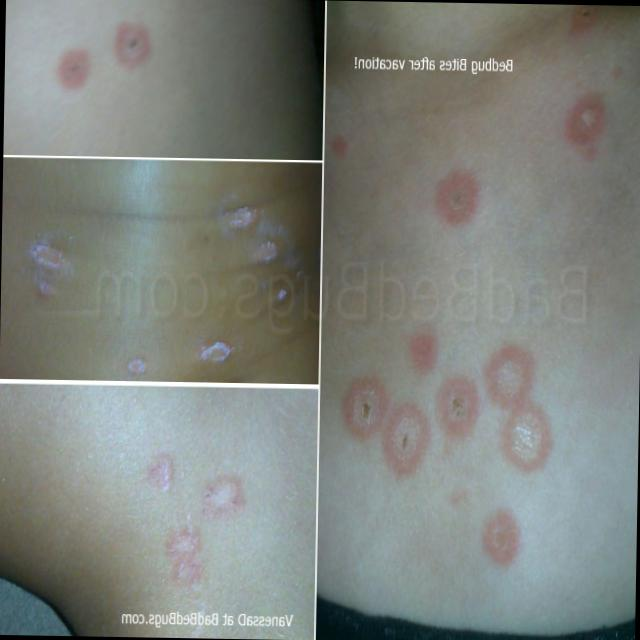kan emici bocekler: (19, 224, 81, 304), (500, 394, 559, 477), (380, 398, 436, 480), (483, 339, 540, 413), (159, 517, 212, 593), (341, 370, 393, 446), (433, 370, 485, 446), (563, 89, 610, 169), (479, 500, 527, 576), (433, 163, 485, 231), (197, 469, 252, 522), (114, 16, 158, 76), (55, 44, 96, 92), (408, 329, 445, 379), (221, 196, 267, 236), (194, 333, 247, 367), (144, 448, 181, 496), (250, 235, 282, 264), (124, 353, 151, 378)
